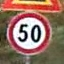limite 50: (5, 11, 52, 55)
